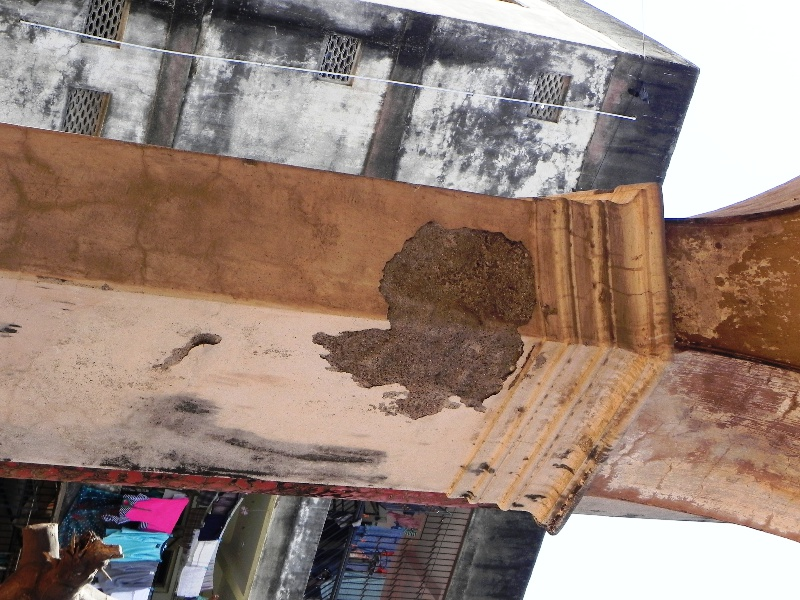Spalling: (304, 213, 543, 423), (153, 326, 231, 370)
